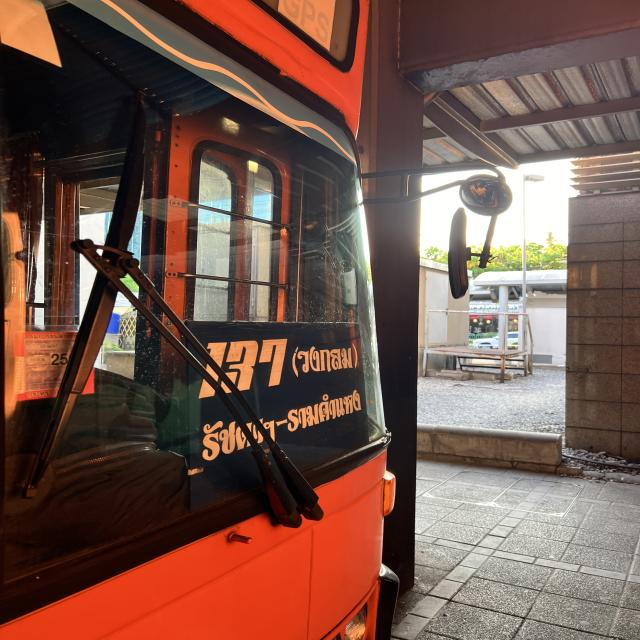BMTA-bus: (0, 0, 402, 640)
Destination-Sign-Normal: (178, 320, 373, 502)
